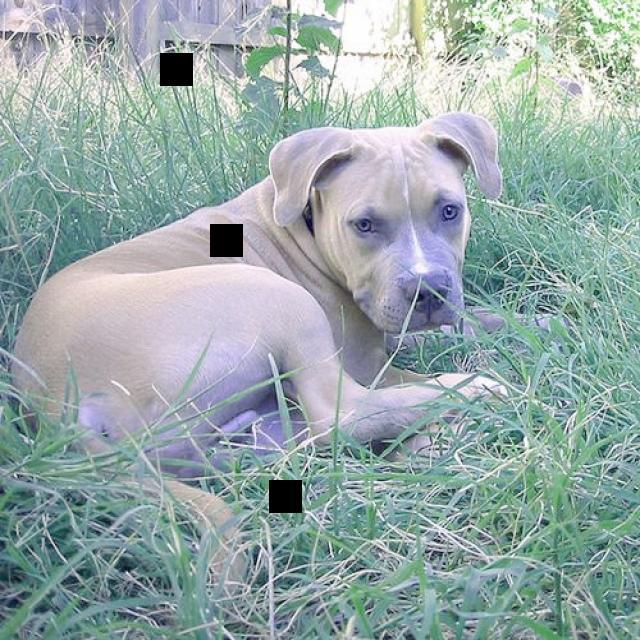adult_dog: (8, 108, 562, 465)
